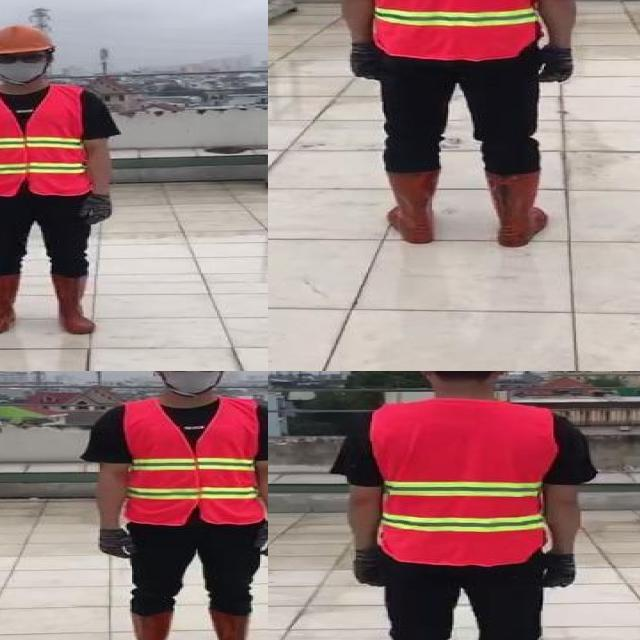boots: (485, 169, 553, 245), (380, 169, 441, 247), (48, 271, 100, 337), (208, 609, 268, 640), (123, 609, 171, 640), (0, 273, 23, 334)
face_mask: (155, 371, 226, 393), (0, 50, 50, 79)
glasses: (0, 49, 53, 67), (158, 371, 224, 376)
hand_glove: (354, 545, 397, 590), (535, 45, 578, 85), (352, 41, 382, 85), (95, 529, 137, 560), (80, 193, 116, 227), (543, 555, 578, 588), (254, 520, 268, 559)
head_helmet: (0, 23, 54, 55)
person: (336, 371, 601, 640), (321, 0, 599, 255), (85, 371, 268, 640), (0, 20, 127, 341)
vest: (374, 405, 557, 561), (121, 401, 262, 526), (359, 0, 544, 56), (0, 83, 89, 196)
